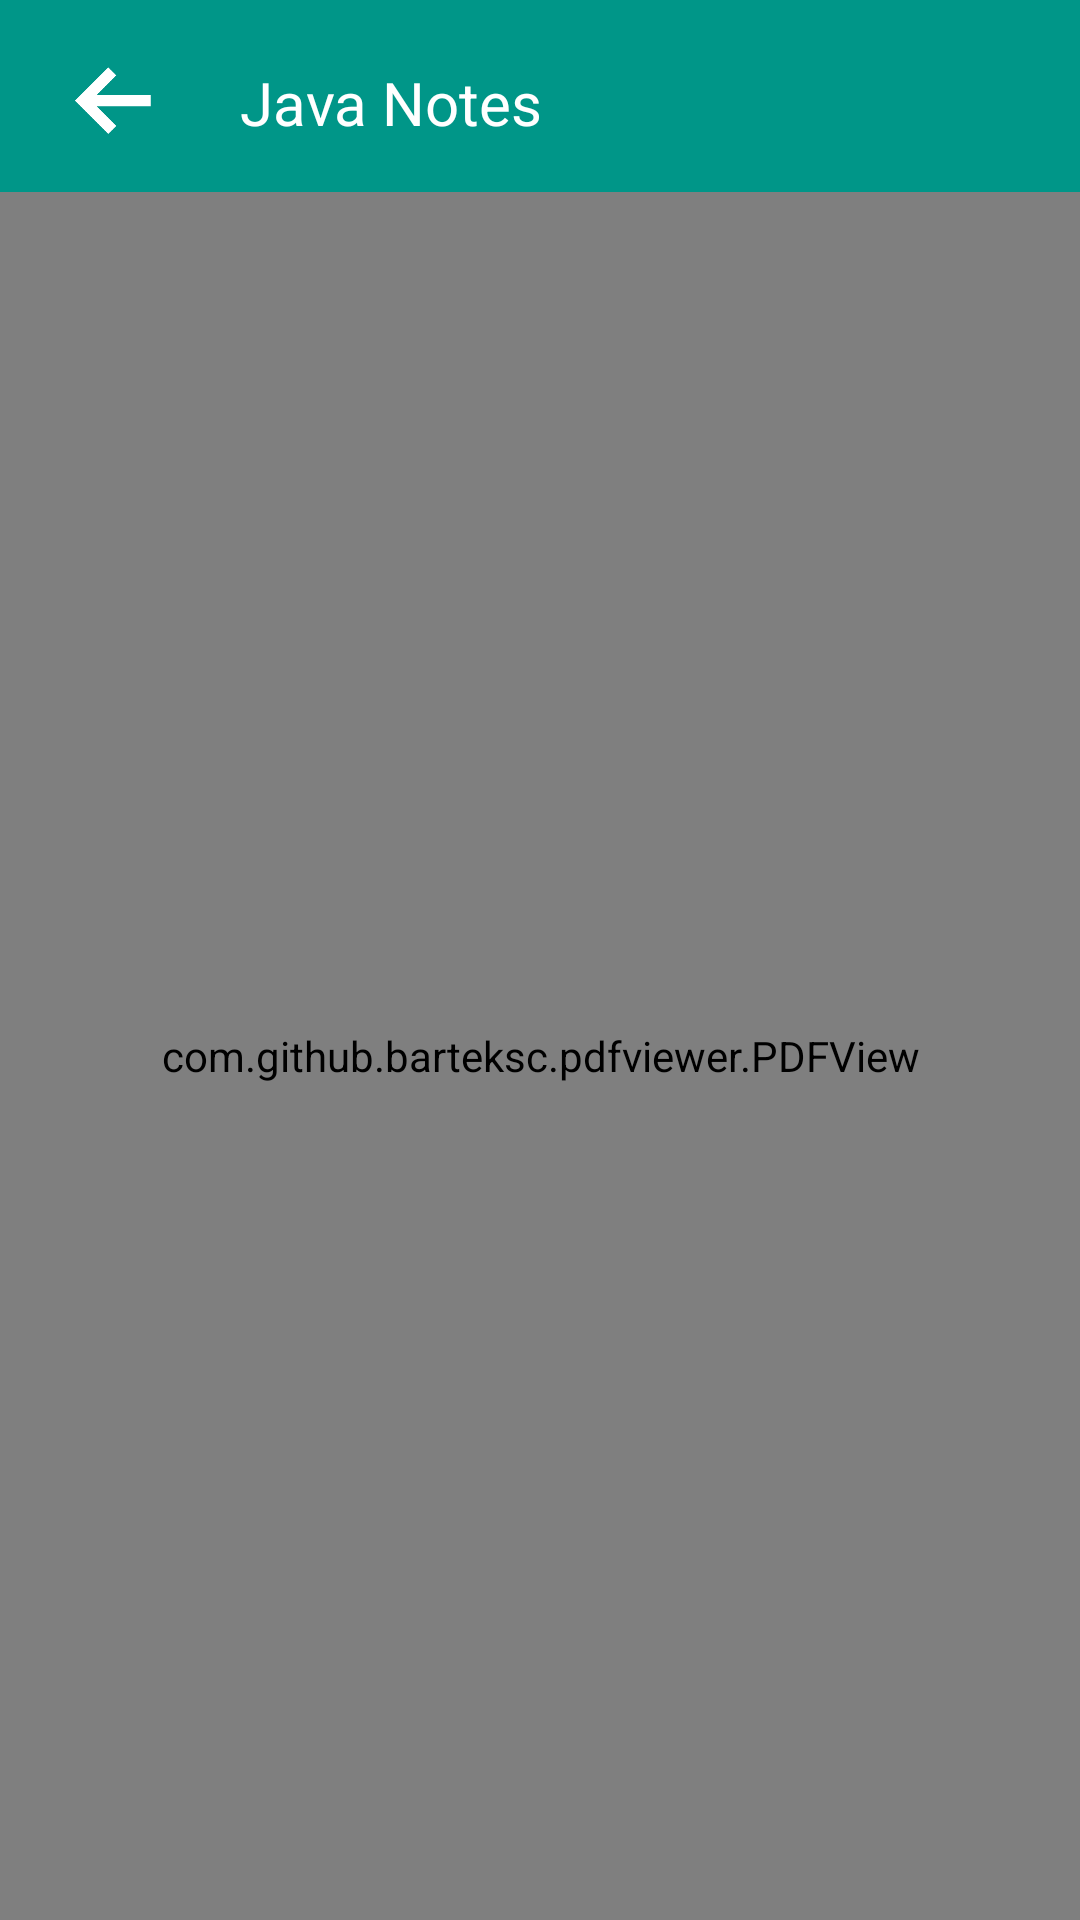

Screen size 1080w x 1920h. Icon name, then its box in pixels as (x1, y1, x2, y2):
back arrow: (75, 67, 151, 134)
